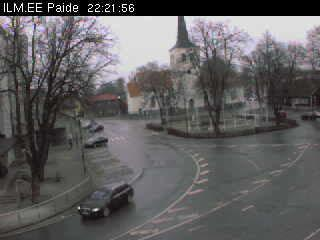car: (76, 181, 136, 223), (83, 135, 109, 149), (300, 109, 320, 123), (81, 120, 99, 130), (88, 124, 105, 133)
person: (68, 136, 74, 150)
